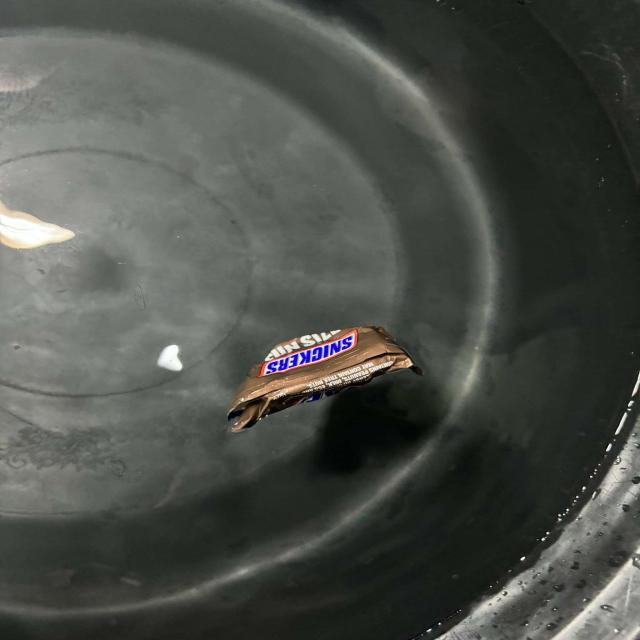Plastic Wrapper: (190, 301, 454, 454)
